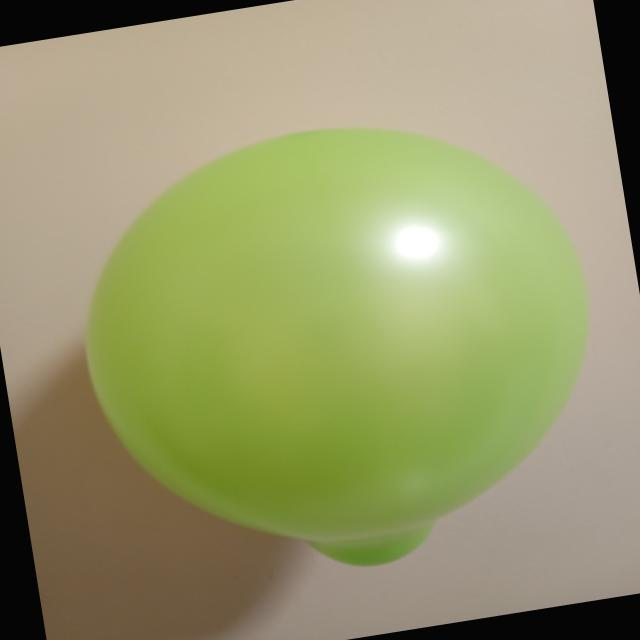balloon: (86, 129, 589, 565)
